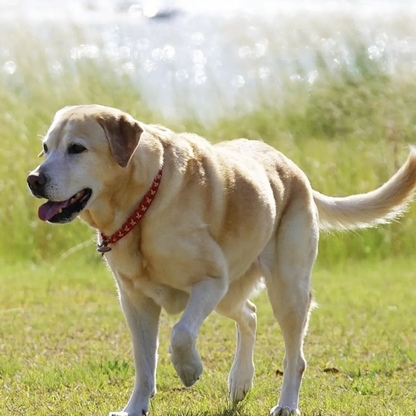labrado: (25, 99, 416, 415)
